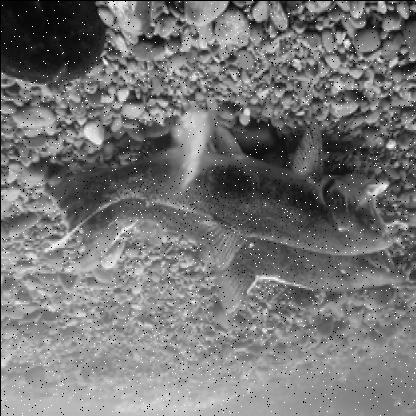fish: (43, 123, 399, 262), (66, 194, 410, 313)
